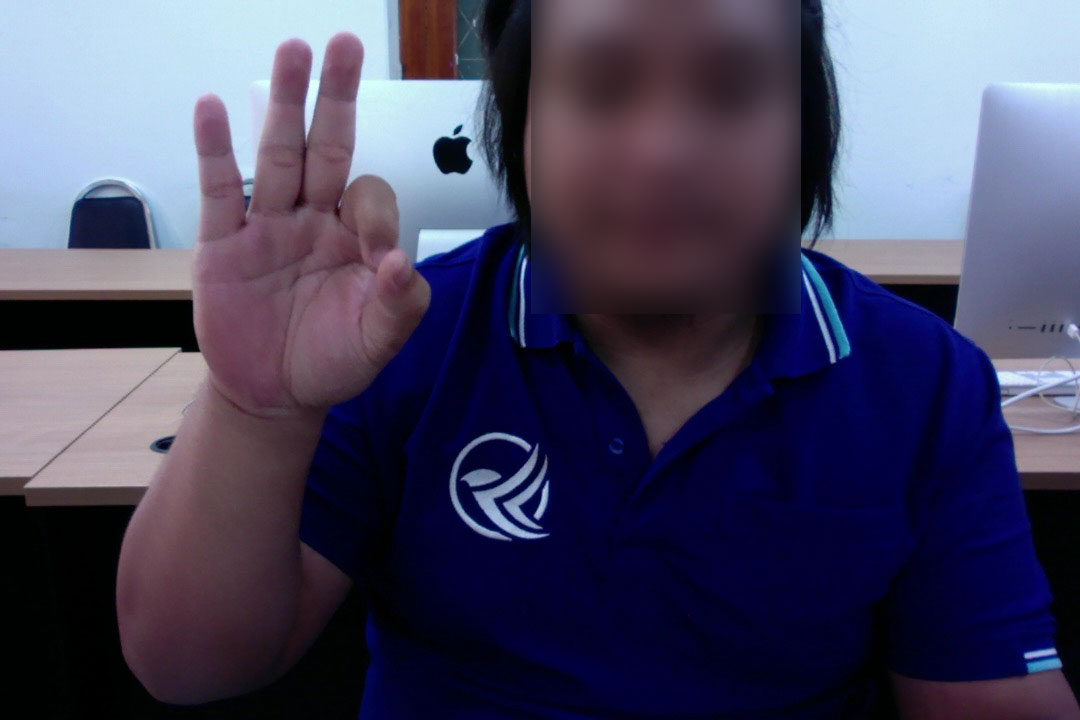for: (166, 16, 443, 439)
